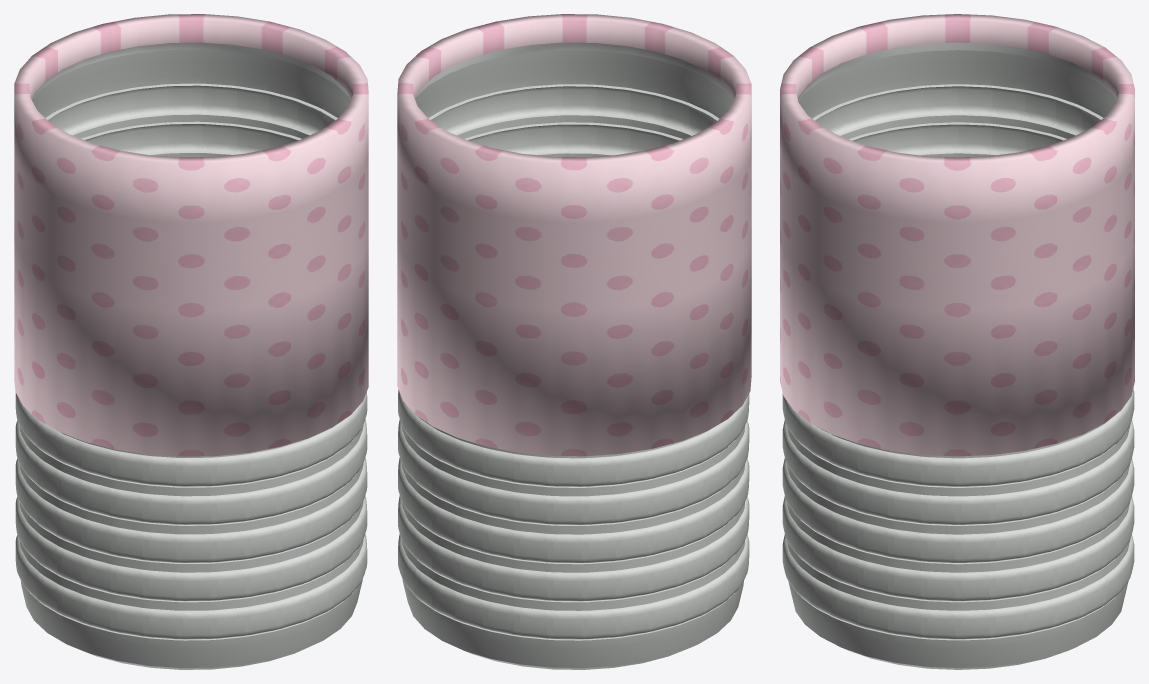
Rendered from bottle-3.glb.
The picture shows the model from 3 angles, left to right: view 1: azimuth 30°, elevation 25°; view 2: azimuth 150°, elevation 25°; view 3: azimuth 270°, elevation 25°; orthographic projection.
Visible parts, largest first — view 1: Cylinder_water lable_0.002; view 2: Cylinder_water lable_0.002; view 3: Cylinder_water lable_0.002.
Boxes of the visible parts, bbox=[...] form: Cylinder_water lable_0.002: bbox=[14, 14, 368, 669]; Cylinder_water lable_0.002: bbox=[397, 14, 751, 669]; Cylinder_water lable_0.002: bbox=[780, 14, 1134, 669].
Bounding box in the file's own units: 0.3584 × 0.6021 × 0.3584.
3 materials, 2 textured.
